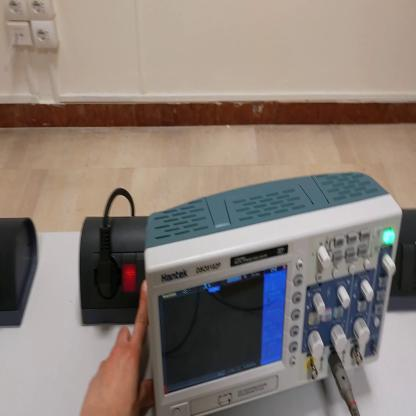hand: (81, 289, 154, 416)
oscilloscope: (146, 174, 403, 413)
socket: (82, 217, 151, 328), (2, 218, 41, 328)
